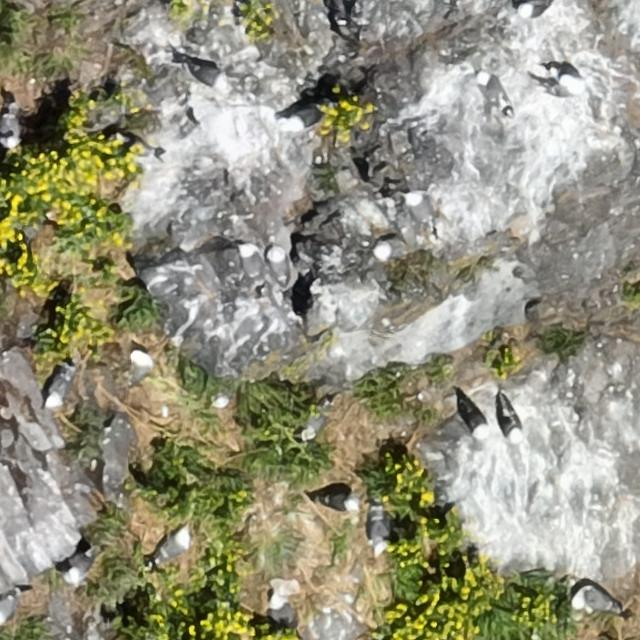umineko: (542, 62, 588, 98), (373, 232, 422, 260), (125, 351, 154, 389), (573, 587, 617, 611), (156, 530, 190, 561), (188, 62, 223, 86), (368, 508, 388, 550), (66, 550, 92, 582), (47, 369, 70, 405), (407, 192, 432, 225), (481, 74, 506, 107), (462, 403, 487, 434), (289, 108, 323, 130), (238, 246, 258, 283), (320, 494, 358, 513), (270, 596, 293, 627), (2, 108, 20, 147), (268, 248, 287, 284), (499, 405, 518, 439), (302, 413, 326, 438), (0, 595, 15, 625), (518, 0, 545, 16)
